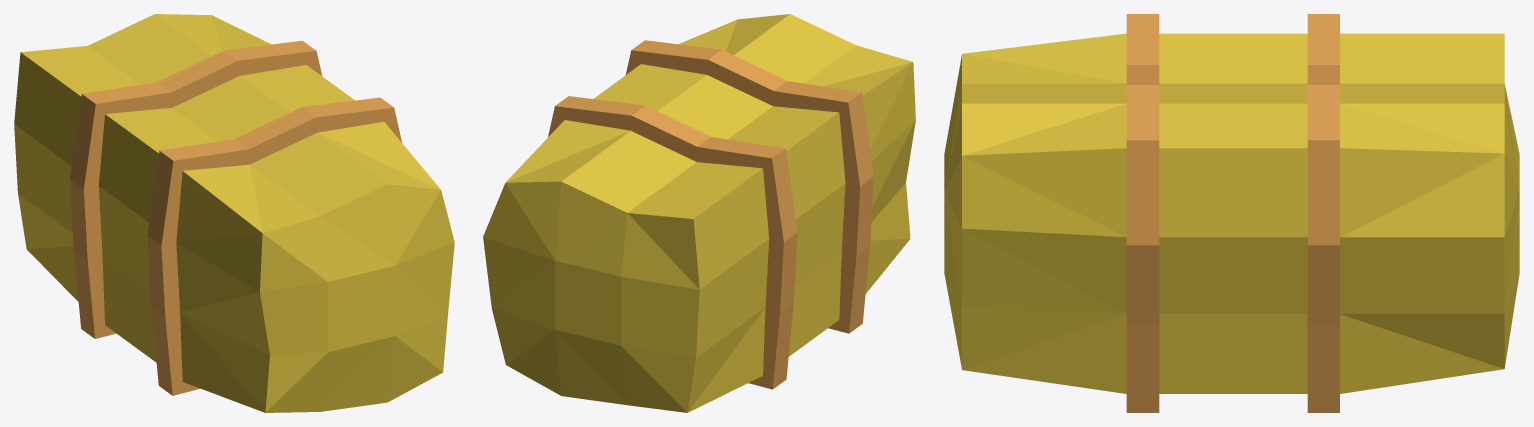
File: Hay.fbx
3 renders of one model, left to right at view 1: azimuth 30°, elevation 25°; view 2: azimuth 150°, elevation 25°; view 3: azimuth 270°, elevation 25°, orthographic. The views are drawn at different scales.
Visible parts, largest first — view 1: HayBlock; view 2: HayBlock; view 3: HayBlock.
Boxes of the visible parts, x1,y1,x2,y2 form: HayBlock: [14, 14, 454, 412]; HayBlock: [483, 14, 915, 412]; HayBlock: [944, 14, 1519, 412].
Bounding box in the file's own units: 62.05 × 59.07 × 106.
